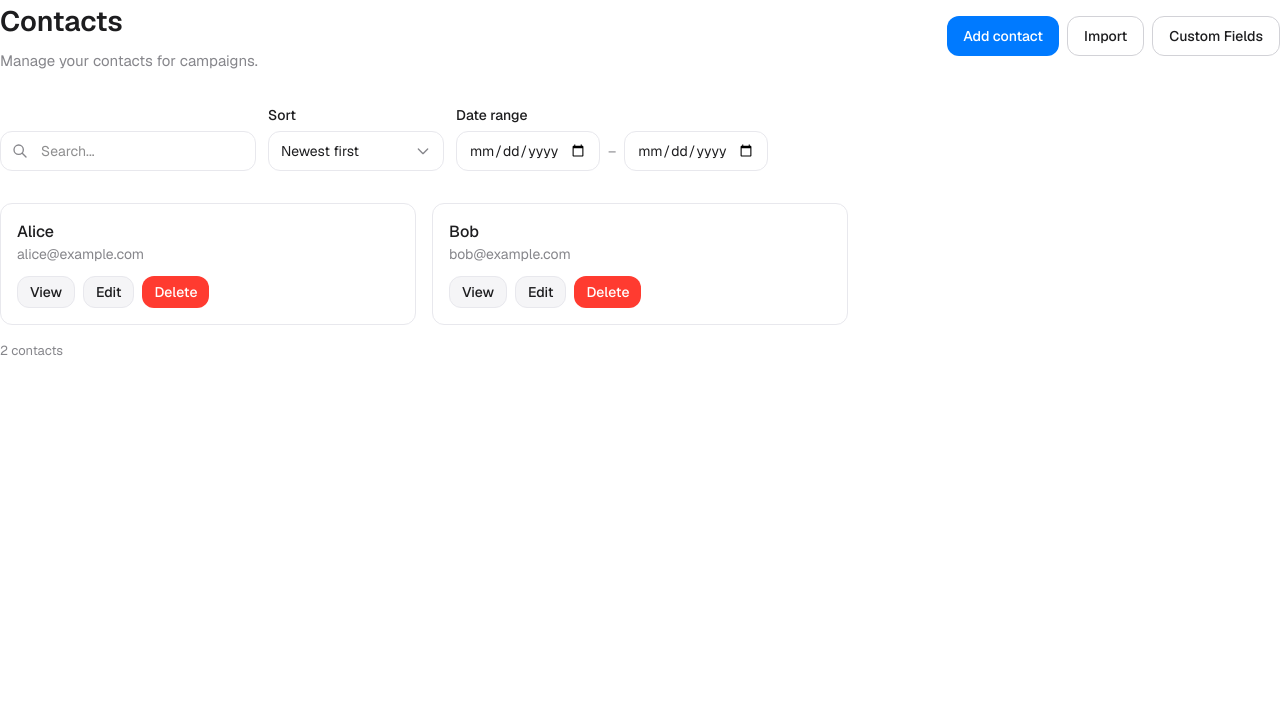
ContactsPage › opens a confirmation dialog when delete is clicked and deletes on confirm
Expected: the text "Alice" is shown, [17,220,54,242]
Expected: the text "Bob" is shown, [449,220,479,242]
Click the button "Delete" below "alice@example.com": click(176, 292) [142,276,210,308]
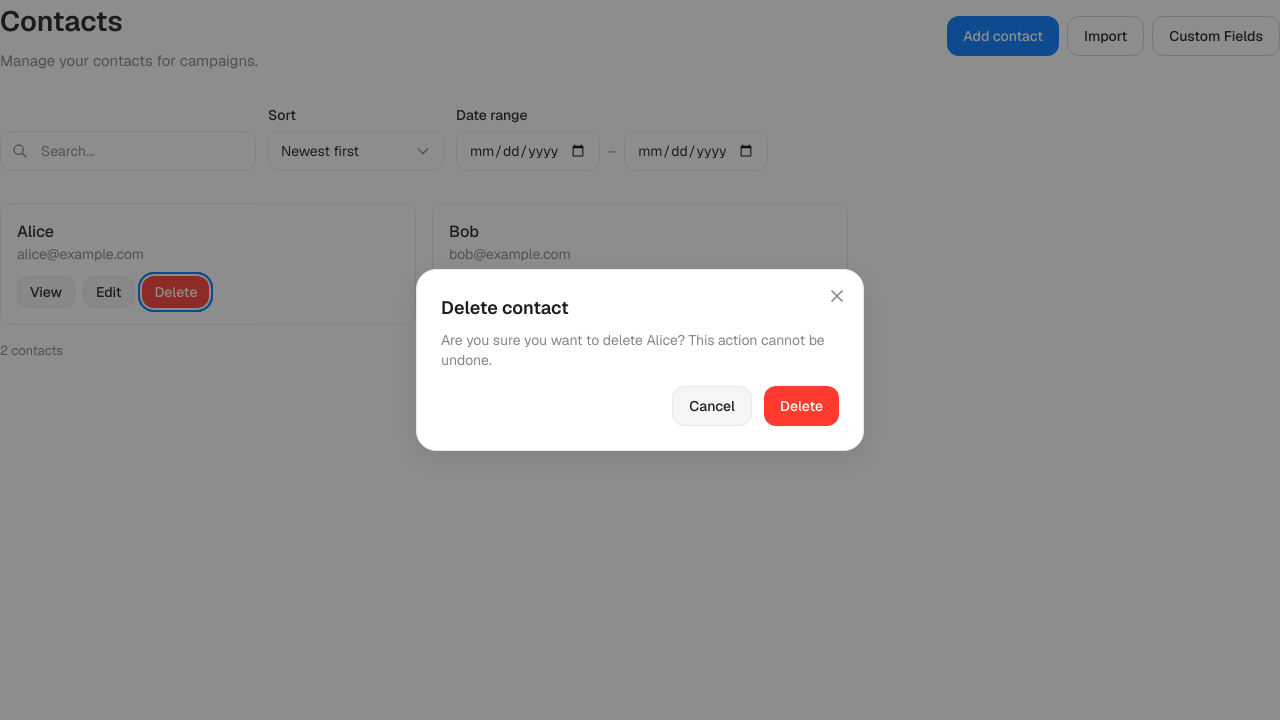
Result: the text "Are you sure you want to delete Alice?" is shown at [441,331,825,369]
Click the button "Delete": click(801, 406) [764,386,839,426]
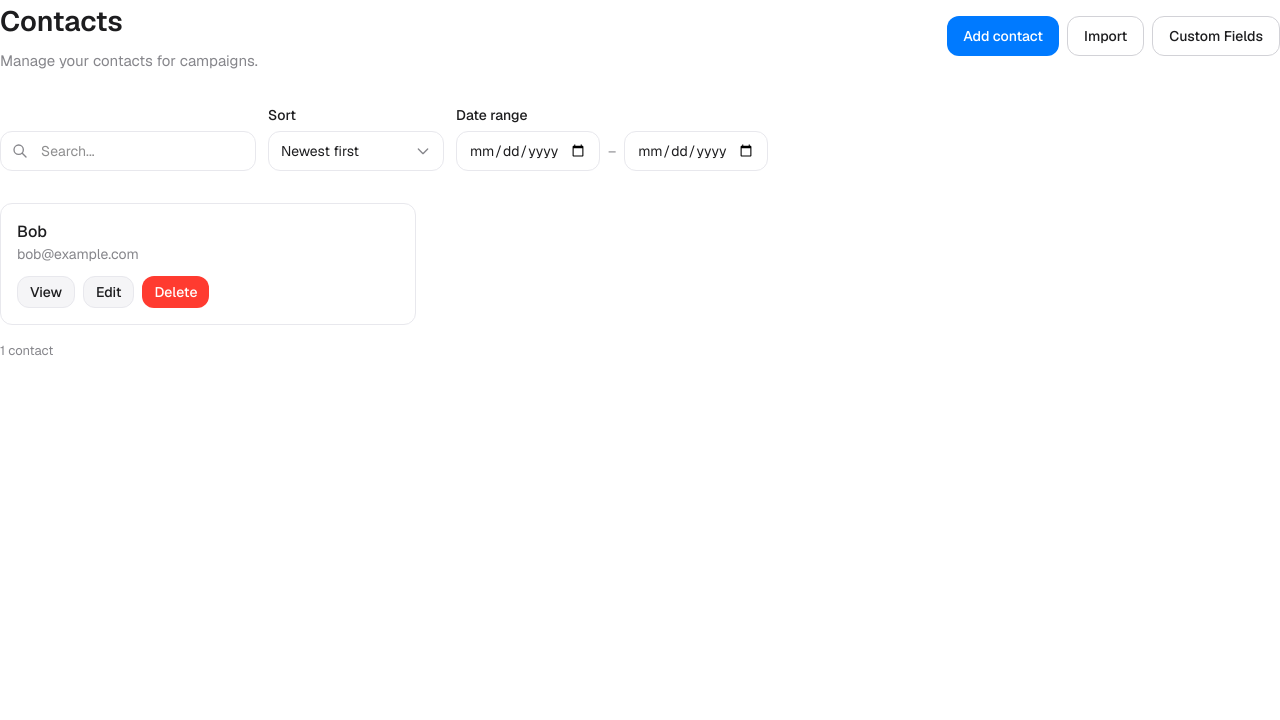
Expected: the text "Bob" is shown, [17,220,47,242]
Result: the text "Alice" is gone
